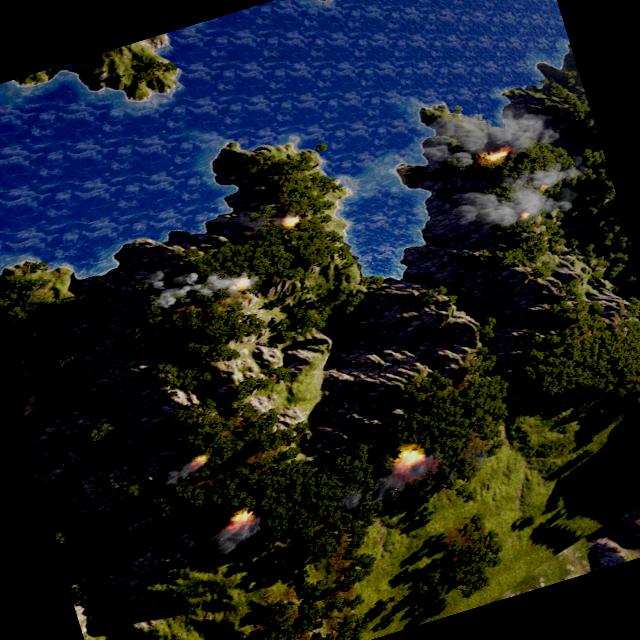fire: (394, 446, 426, 471), (223, 508, 254, 531), (482, 147, 509, 164), (190, 453, 208, 468), (280, 214, 298, 228), (232, 276, 248, 290), (514, 210, 530, 222), (534, 181, 550, 192)
smoke: (420, 93, 561, 179), (454, 162, 586, 243), (140, 246, 260, 320), (329, 449, 457, 516), (207, 514, 270, 556), (156, 458, 202, 486)
